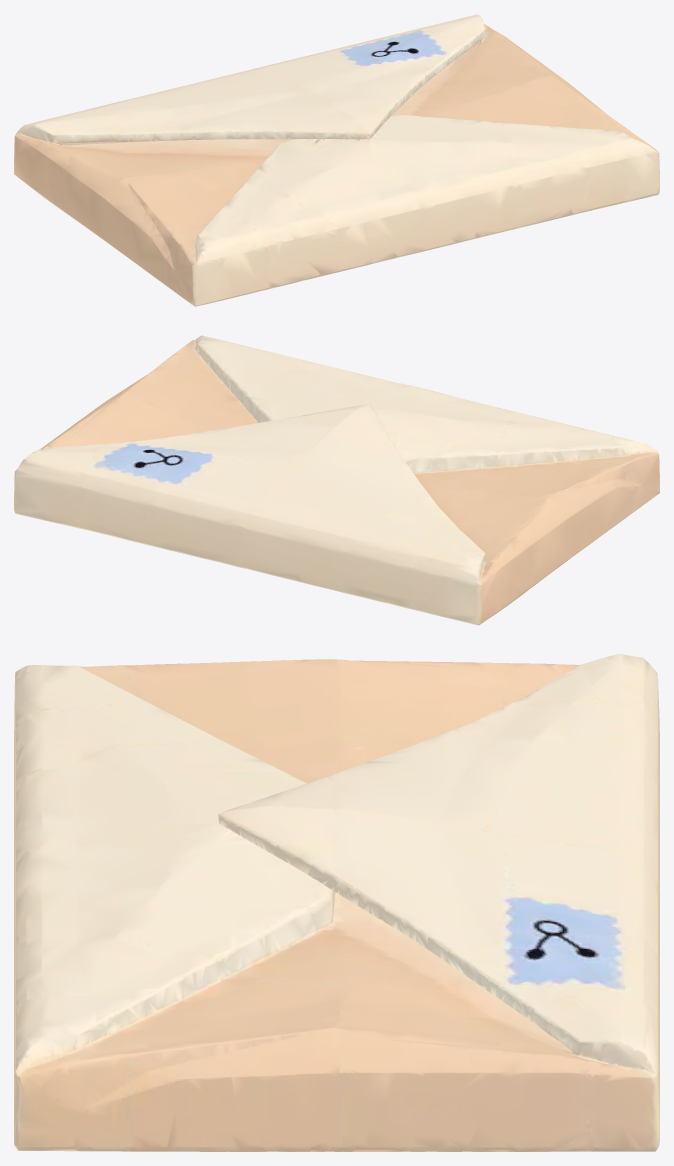
The model's file is envelope-min.glb.
3 views of the same model, one above another, from view 1: azimuth 30°, elevation 25°; view 2: azimuth 150°, elevation 25°; view 3: azimuth 270°, elevation 25° (orthographic). The views are drawn at different scales.
Bounding box in the file's own units: 1.9 × 0.3153 × 1.28.
Materials: 1 (1 with a texture image).
